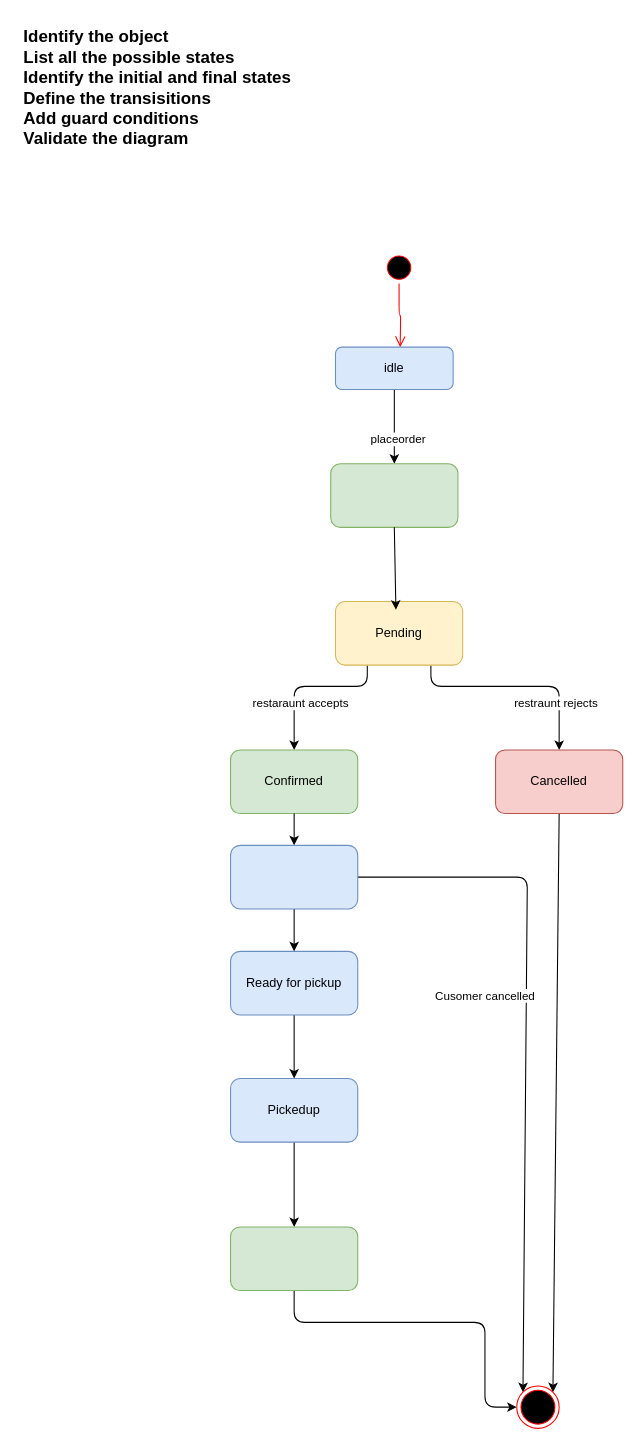
The diagram is 641 pixels wide and 1447 high, and some of its shapes have lost their labels. Here are the shapes that lost their labels. From the top down, the centre of each, then its label:
At point (394, 495): "Placed".
At point (293, 876): "Preparing".
At point (293, 1258): "delivered".
